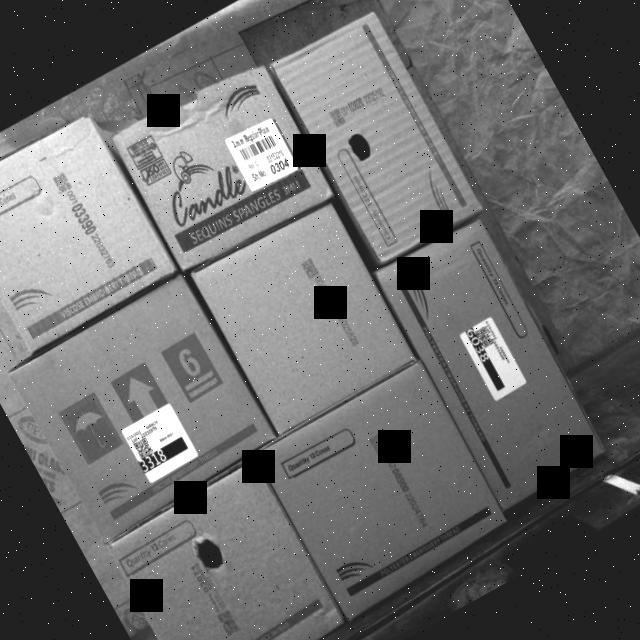box: (4, 272, 282, 544), (371, 216, 606, 510), (254, 360, 513, 620), (268, 5, 484, 266), (186, 197, 414, 434), (106, 53, 338, 280), (103, 460, 355, 640), (0, 104, 179, 352)
